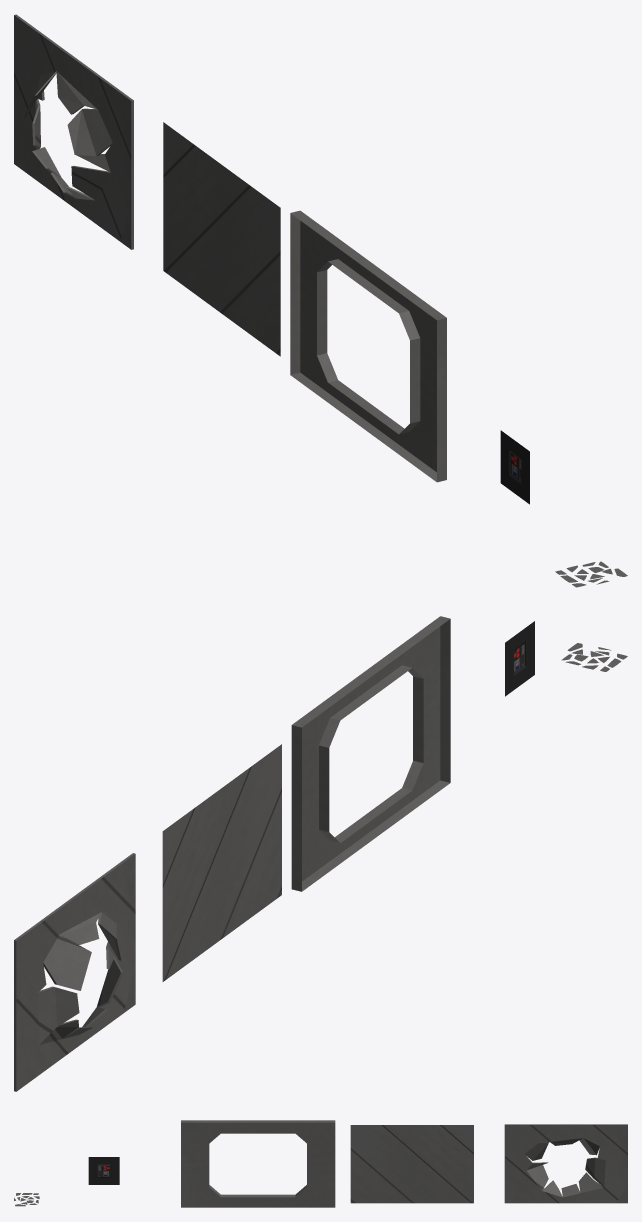
Rendered from DoorPack.fbx.
3 views of the same model, one above another, from view 1: azimuth 30°, elevation 25°; view 2: azimuth 150°, elevation 25°; view 3: azimuth 270°, elevation 25° (orthographic). The views are drawn at different scales.
Parts seen in each view (by area): view 1: frame, door, bustedDoor, controllPanel; view 2: frame, door, bustedDoor, controllPanel; view 3: door, bustedDoor, frame, controllPanel.
Boxes of the visible parts, x1,y1,x2,y2 form: frame: (290,210,446,482); door: (163,122,280,356); bustedDoor: (14,14,133,249); controllPanel: (500,430,529,504); frame: (291,616,450,891); door: (162,744,281,981); bustedDoor: (14,853,135,1091); controllPanel: (505,621,534,696); door: (350,1125,473,1203); bustedDoor: (504,1124,627,1203); frame: (181,1120,335,1207); controllPanel: (88,1157,119,1184).
Size of the model in its own units: 227 by 609 by 3985.
